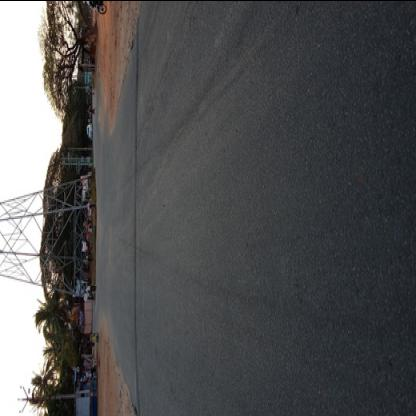speed-bumps: (124, 2, 146, 416)
